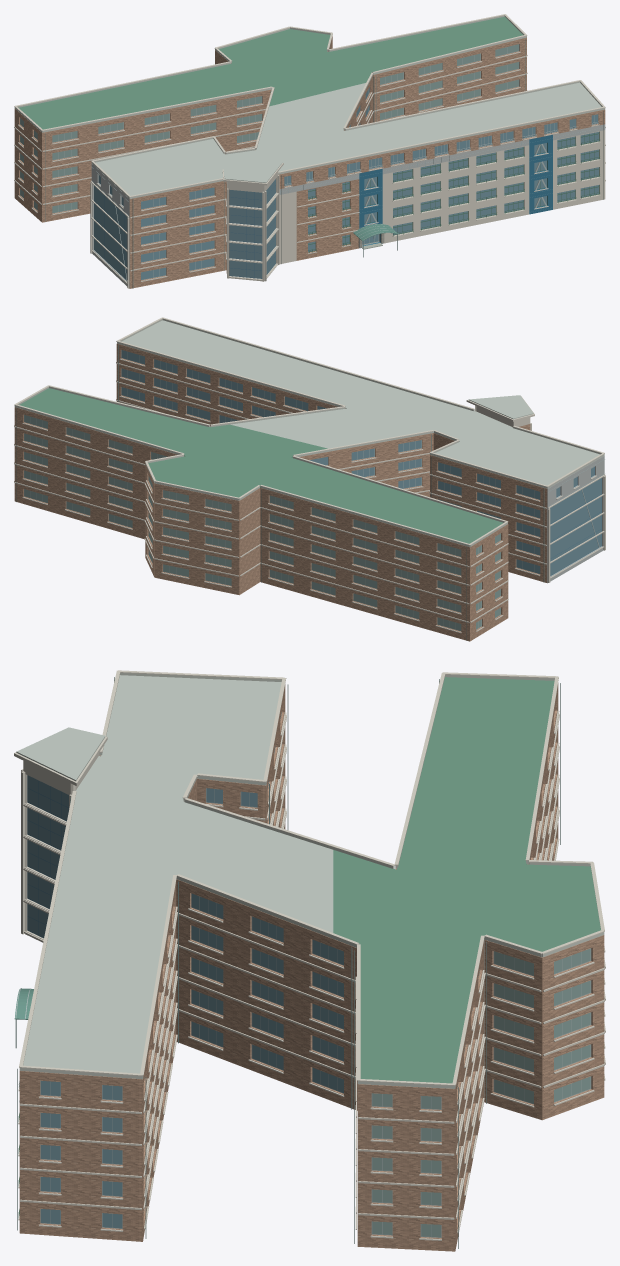
The picture shows the model from 3 angles, top to bottom: view 1: azimuth 30°, elevation 25°; view 2: azimuth 150°, elevation 25°; view 3: azimuth 270°, elevation 25°; orthographic projection. The views are drawn at different scales.
Visible parts, largest first — view 1: main__peachBrick, main__ivory, main__roofWhite, main__roofGreen, main__glass, main__rearGlass, main__roofEdge, main__windowFrame, main__frame, main__greyPanel, main__bluePanel, main__blueFrame (+2 smaller); view 2: main__peachBrick, main__roofWhite, main__roofGreen, main__ivory, main__rearGlass, main__glass, main__roofEdge, main__frame, main__greyPanel, main__metal; view 3: main__peachBrick, main__roofWhite, main__roofGreen, main__ivory, main__glass, main__rearGlass, main__frame, main__roofEdge, main__metal.
Part boxes in pixels (<box>): main__peachBrick: <box>14,36,605,288</box>; main__ivory: <box>14,14,605,288</box>; main__roofWhite: <box>95,82,601,195</box>; main__roofGreen: <box>18,16,523,129</box>; main__glass: <box>94,87,598,279</box>; main__rearGlass: <box>20,44,518,213</box>; main__roofEdge: <box>14,15,605,198</box>; main__windowFrame: <box>308,132,599,252</box>; main__frame: <box>20,44,598,280</box>; main__greyPanel: <box>91,124,605,288</box>; main__bluePanel: <box>359,135,552,248</box>; main__blueFrame: <box>94,183,275,280</box>; main__peachBrick: <box>14,343,547,641</box>; main__roofWhite: <box>122,320,599,485</box>; main__roofGreen: <box>19,388,503,543</box>; main__ivory: <box>14,317,605,633</box>; main__rearGlass: <box>24,415,500,630</box>; main__glass: <box>121,350,601,575</box>; main__roofEdge: <box>14,319,604,546</box>; main__frame: <box>24,350,599,631</box>; main__greyPanel: <box>547,456,604,582</box>; main__metal: <box>16,345,544,640</box>; main__peachBrick: <box>19,683,604,1251</box>; main__roofWhite: <box>16,675,333,1073</box>; main__roofGreen: <box>333,677,600,1083</box>; main__ivory: <box>14,670,605,1240</box>; main__glass: <box>27,712,343,1228</box>; main__rearGlass: <box>372,948,590,1237</box>; main__frame: <box>15,713,591,1237</box>; main__roofEdge: <box>19,673,604,1088</box>; main__metal: <box>15,677,560,1248</box>.
Size of the model in its own units: 92 by 18.77 by 55.31.
Materials: 19 (2 with a texture image).
